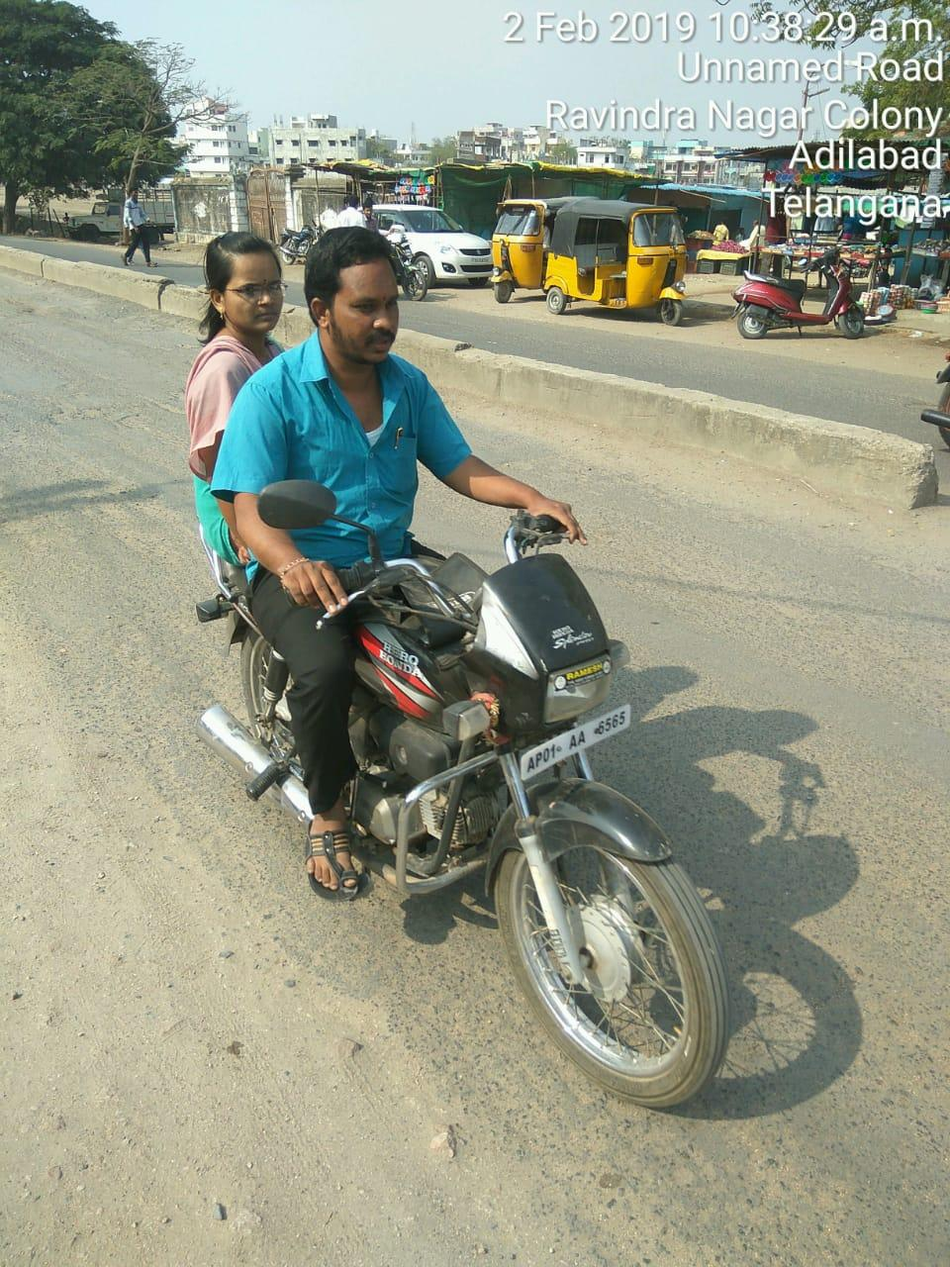plate: (506, 695, 639, 776)
